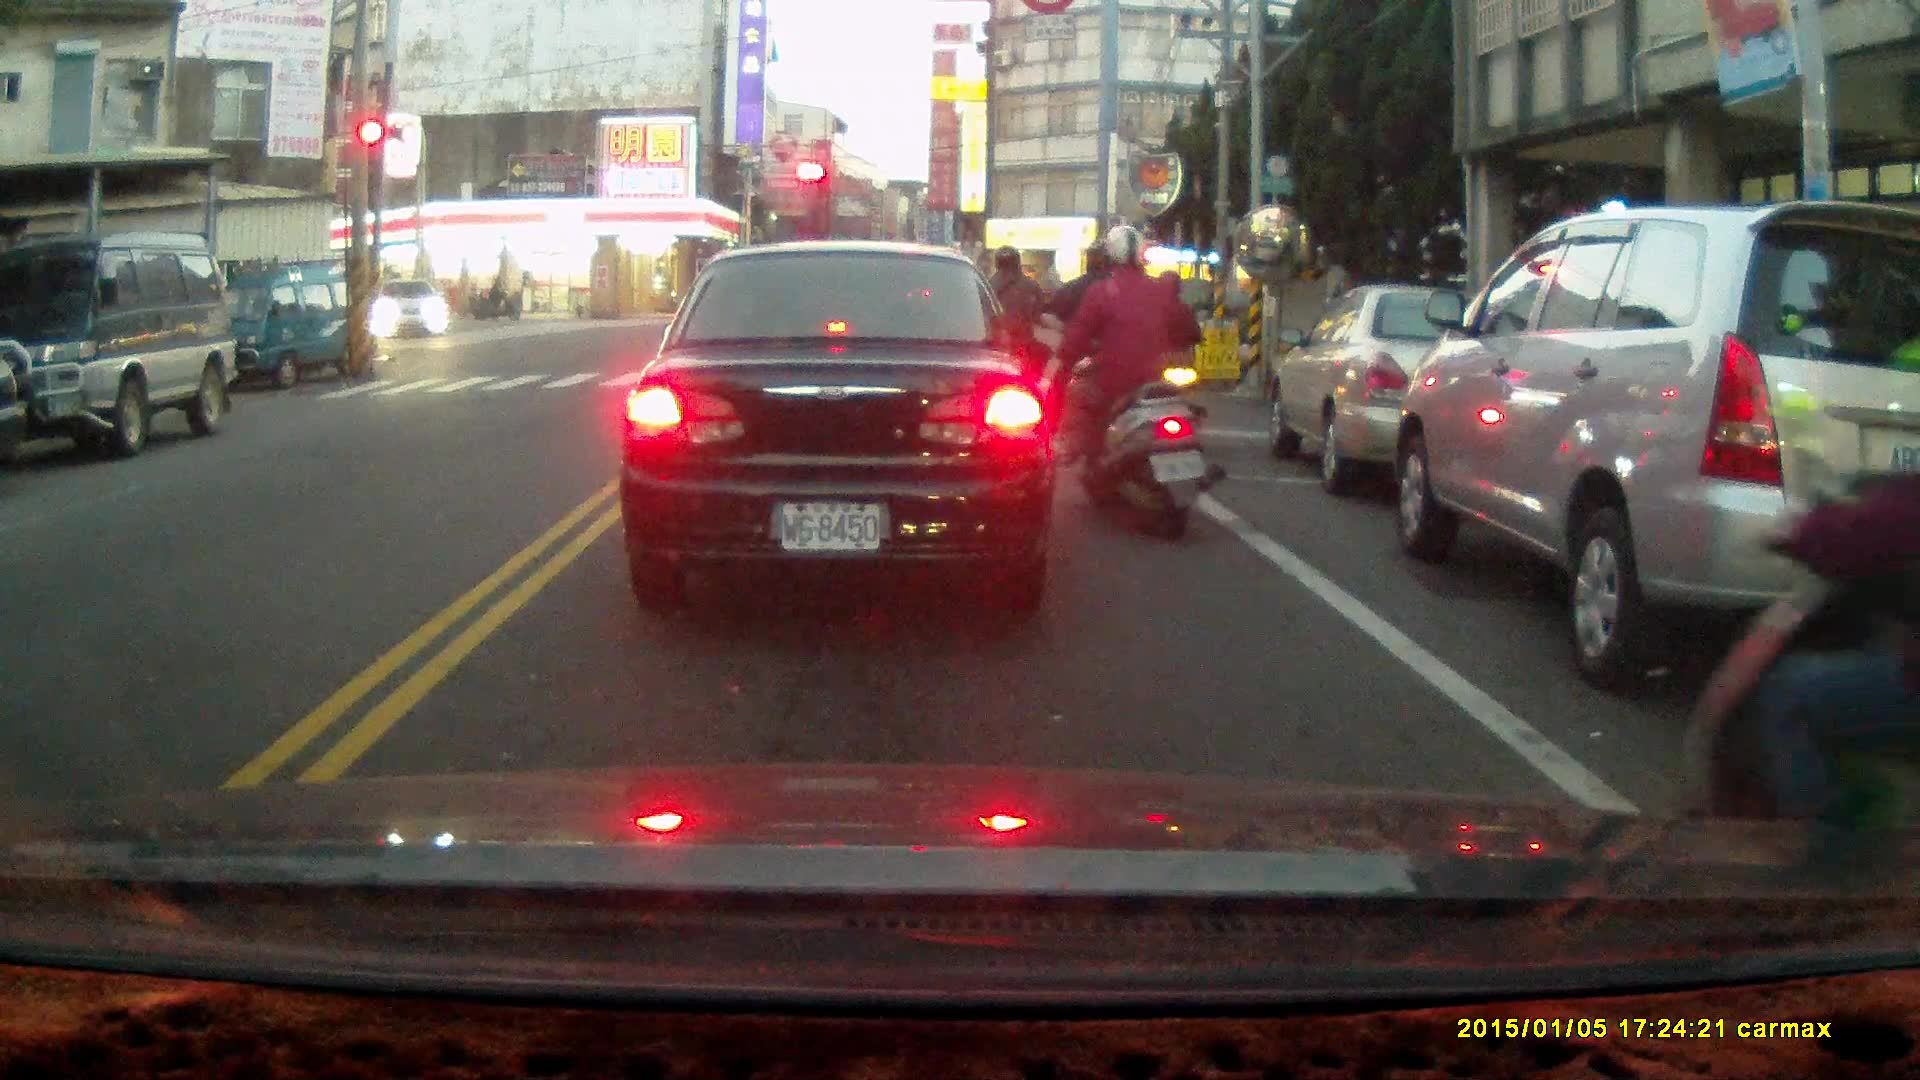rider: (1684, 353, 1919, 923), (1044, 225, 1221, 545), (1048, 242, 1141, 468), (960, 239, 1057, 433), (1134, 269, 1204, 450), (473, 279, 518, 321)
vehicle: (1382, 199, 1919, 692), (617, 243, 1061, 606), (1266, 286, 1565, 500), (1, 234, 239, 458), (194, 255, 381, 393), (372, 277, 451, 343)
